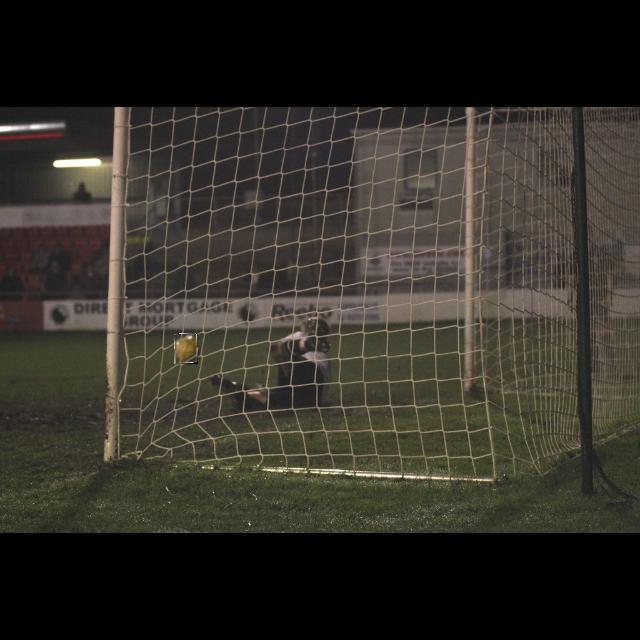Football: (174, 334, 198, 364)
